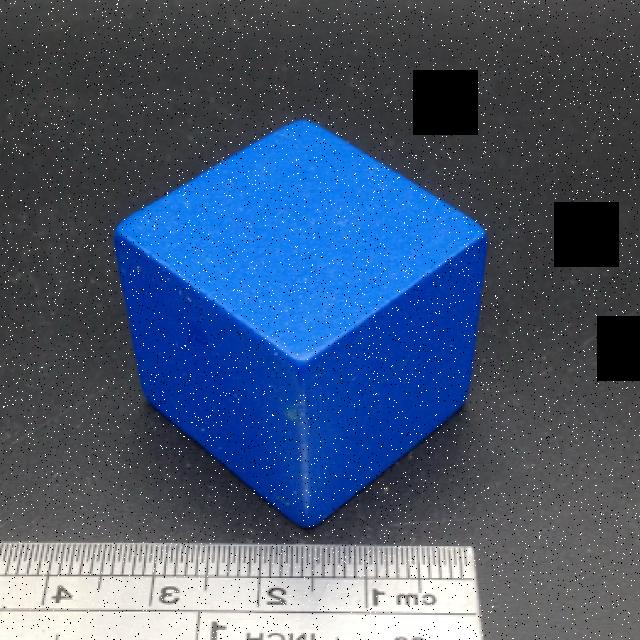bluecube: (113, 122, 488, 531)
